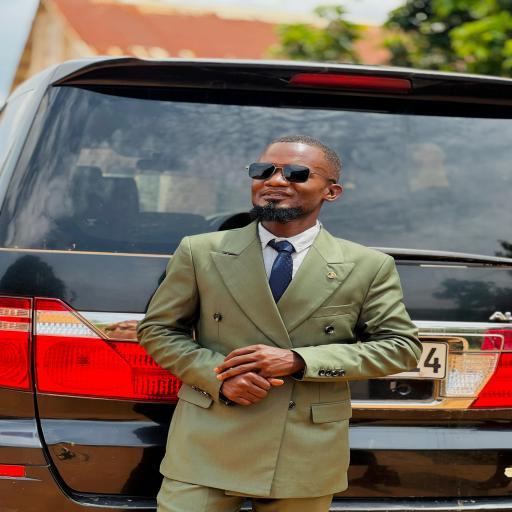MATTHIEU: (240, 129, 350, 233)
